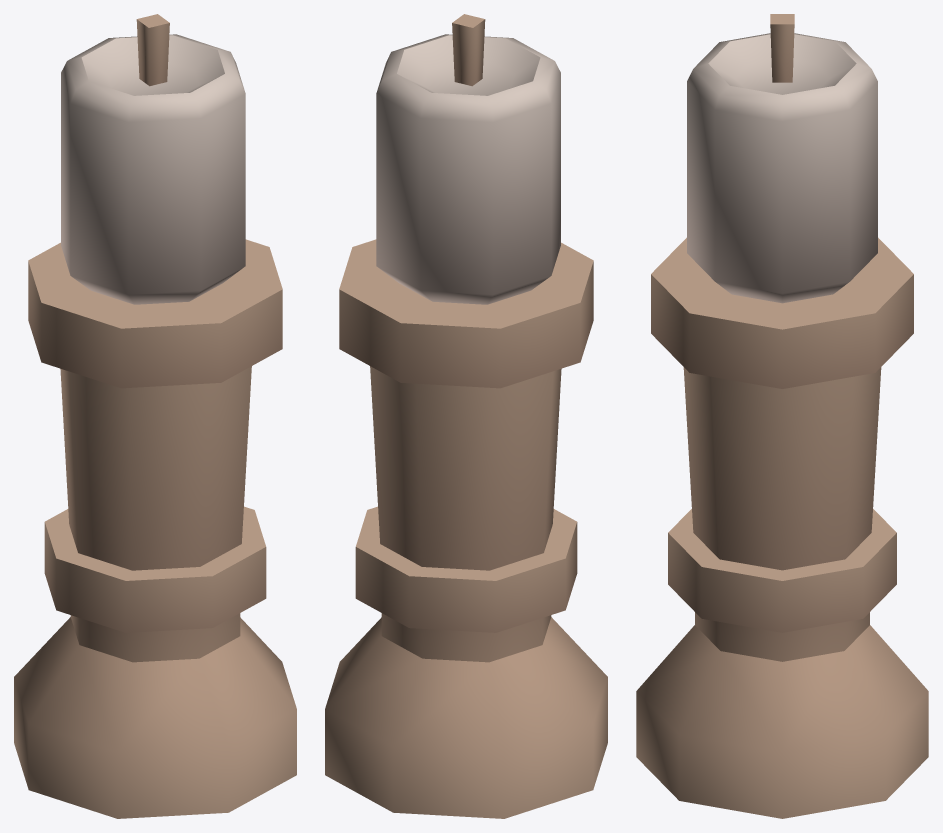
Rendered from candle-holder-tall-alternative.glb.
3 renders of one model, left to right at view 1: azimuth 30°, elevation 25°; view 2: azimuth 150°, elevation 25°; view 3: azimuth 270°, elevation 25°, orthographic.
Parts seen in each view (by area): view 1: candle-holder-tall-alternative; view 2: candle-holder-tall-alternative; view 3: candle-holder-tall-alternative.
Boxes of the visible parts, x1=… form: candle-holder-tall-alternative: x1=14, y1=14, x2=296, y2=818; candle-holder-tall-alternative: x1=325, y1=14, x2=607, y2=818; candle-holder-tall-alternative: x1=636, y1=14, x2=928, y2=818.
Bounding box in the file's own units: 0.134 × 0.373 × 0.134.
